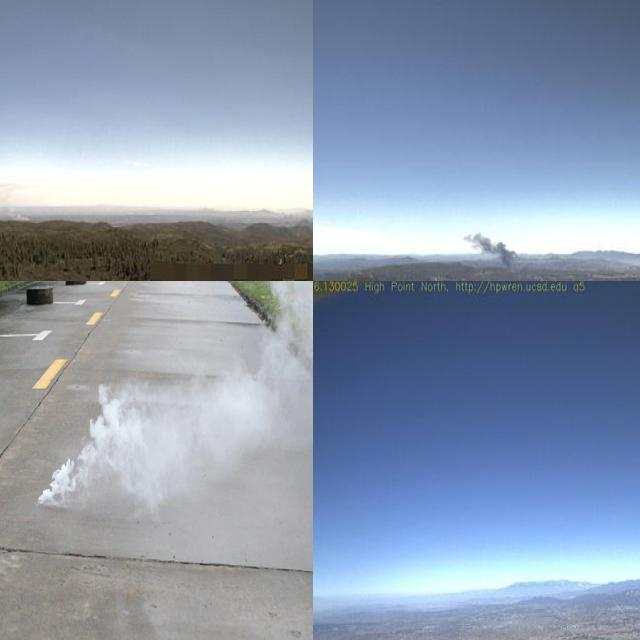smoke: (37, 281, 313, 518), (458, 224, 518, 272), (0, 172, 37, 224)
